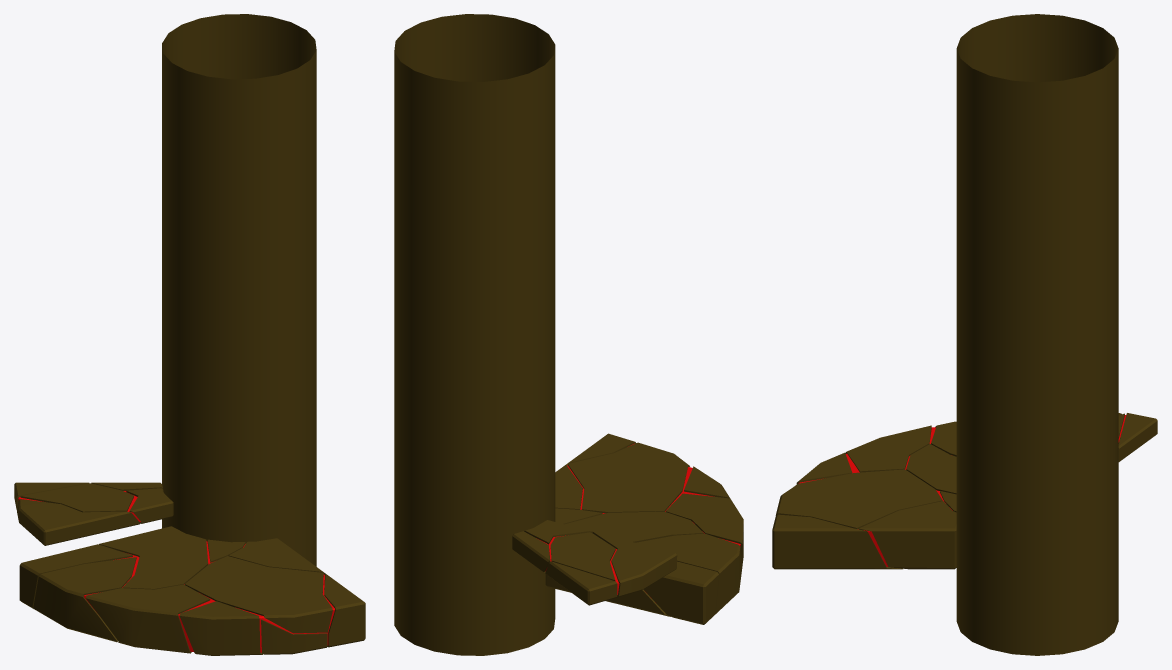
Rendered from Lava.fbx.
3 views of the same model, side by side, from view 1: azimuth 30°, elevation 25°; view 2: azimuth 150°, elevation 25°; view 3: azimuth 270°, elevation 25° (orthographic). The views are drawn at different scales.
Parts seen in each view (by area): view 1: LavaSpire, LavaQuarter, LavaStep; view 2: LavaSpire, LavaQuarter, LavaStep; view 3: LavaSpire, LavaQuarter, LavaStep.
Part boxes in pixels (x1=…): LavaSpire: x1=162, y1=14, x2=316, y2=566; LavaQuarter: x1=19, y1=526, x2=365, y2=655; LavaStep: x1=14, y1=482, x2=173, y2=545; LavaSpire: x1=394, y1=14, x2=555, y2=655; LavaQuarter: x1=545, y1=433, x2=743, y2=624; LavaStep: x1=512, y1=520, x2=677, y2=605; LavaSpire: x1=956, y1=14, x2=1118, y2=655; LavaQuarter: x1=772, y1=421, x2=956, y2=569; LavaStep: x1=1118, y1=413, x2=1157, y2=461.
Bounding box in the file's own units: 471 × 861 × 525.
